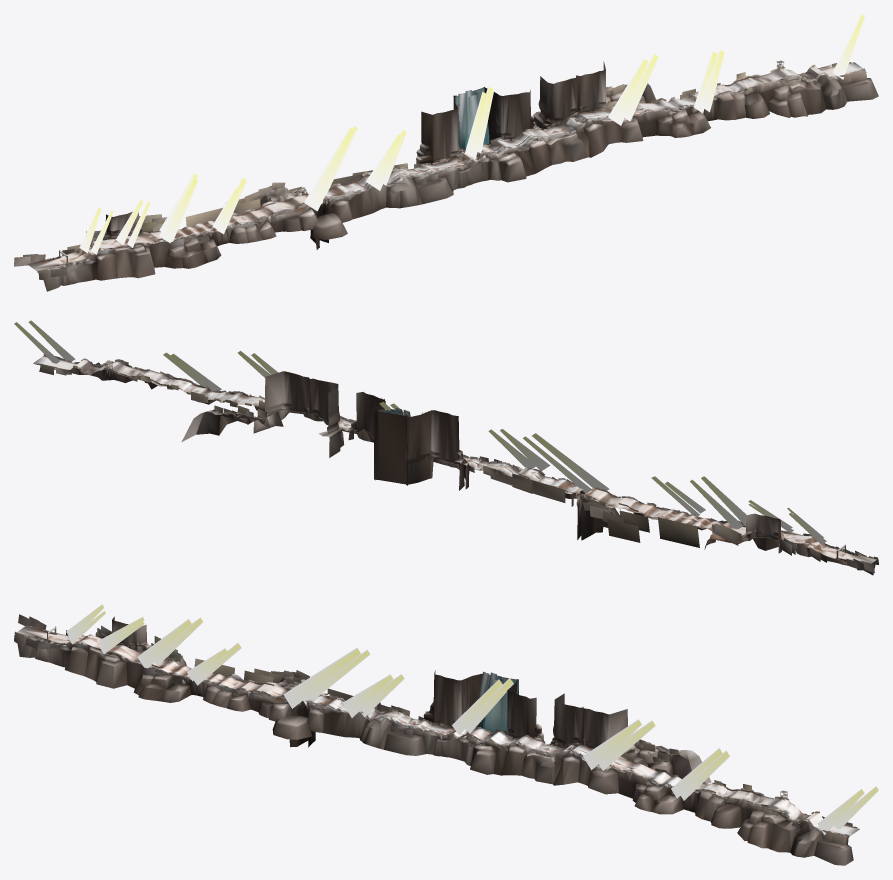
The model's file is Forest_02.fbx.
The picture shows the model from 3 angles, top to bottom: view 1: azimuth 30°, elevation 25°; view 2: azimuth 150°, elevation 25°; view 3: azimuth 330°, elevation 25°; orthographic projection.
Parts seen in each view (by area): view 1: Mountain_01, Light_01_V, Ground_03_V1, Tree_01_A3, Tree_01_A1, Water_01_A_V1, Road_04; view 2: Mountain_01, Light_01_V, Tree_01_A3, Ground_03_V1, Tree_01_A1, Road_04; view 3: Mountain_01, Light_01_V, Ground_03_V1, Tree_01_A3, Tree_01_A1, Water_01_A_V1, Road_04.
Boxes of the visible parts, <box> form: Mountain_01: <box>38,61,878,291</box>; Light_01_V: <box>79,14,864,254</box>; Ground_03_V1: <box>27,62,862,271</box>; Tree_01_A3: <box>14,62,851,266</box>; Tree_01_A1: <box>37,68,866,277</box>; Water_01_A_V1: <box>455,87,489,150</box>; Road_04: <box>60,107,648,262</box>; Mountain_01: <box>39,356,878,575</box>; Light_01_V: <box>14,320,826,544</box>; Tree_01_A3: <box>35,363,874,573</box>; Ground_03_V1: <box>33,356,876,563</box>; Tree_01_A1: <box>43,354,878,559</box>; Road_04: <box>71,367,845,556</box>; Mountain_01: <box>14,616,853,865</box>; Light_01_V: <box>66,604,878,834</box>; Ground_03_V1: <box>17,625,859,836</box>; Tree_01_A3: <box>18,614,857,827</box>; Tree_01_A1: <box>14,631,849,844</box>; Water_01_A_V1: <box>476,671,518,733</box>; Road_04: <box>48,636,642,771</box>.
Bounding box in the file's own units: 79593 × 9293 × 8932.
